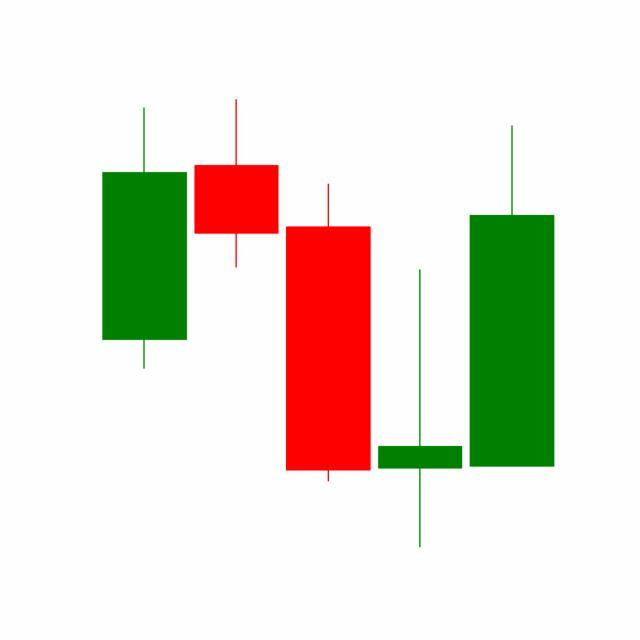Three Inside Up-Down: (280, 121, 555, 549)
